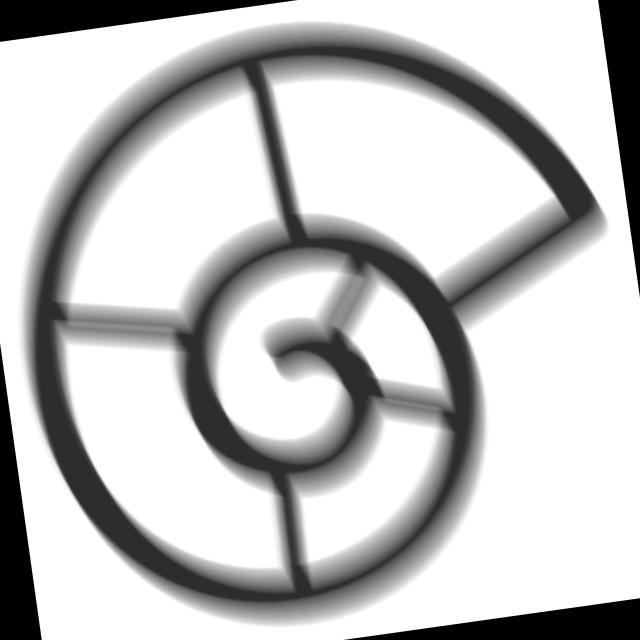fossil: (1, 1, 640, 640)
